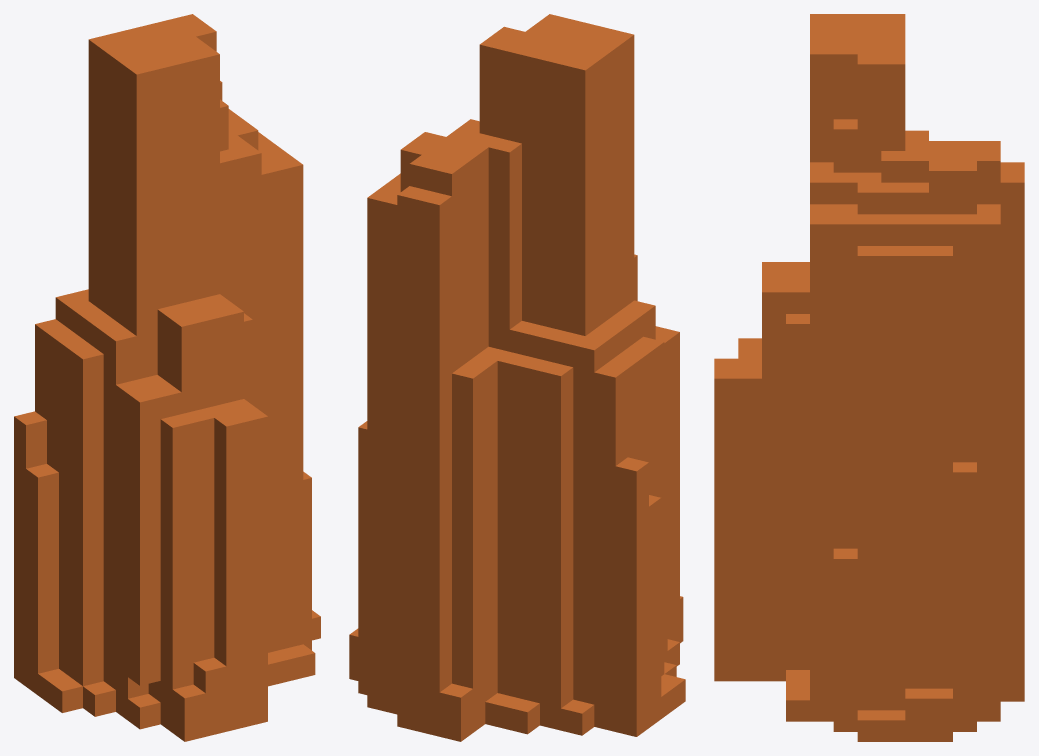
File: Elm_1.obj
3 renders of one model, left to right at view 1: azimuth 30°, elevation 25°; view 2: azimuth 150°, elevation 25°; view 3: azimuth 270°, elevation 25°, orthographic. The views are drawn at different scales.
Bounding box in the file's own units: 13 × 29 × 13.
Materials: 1 (1 with a texture image).
